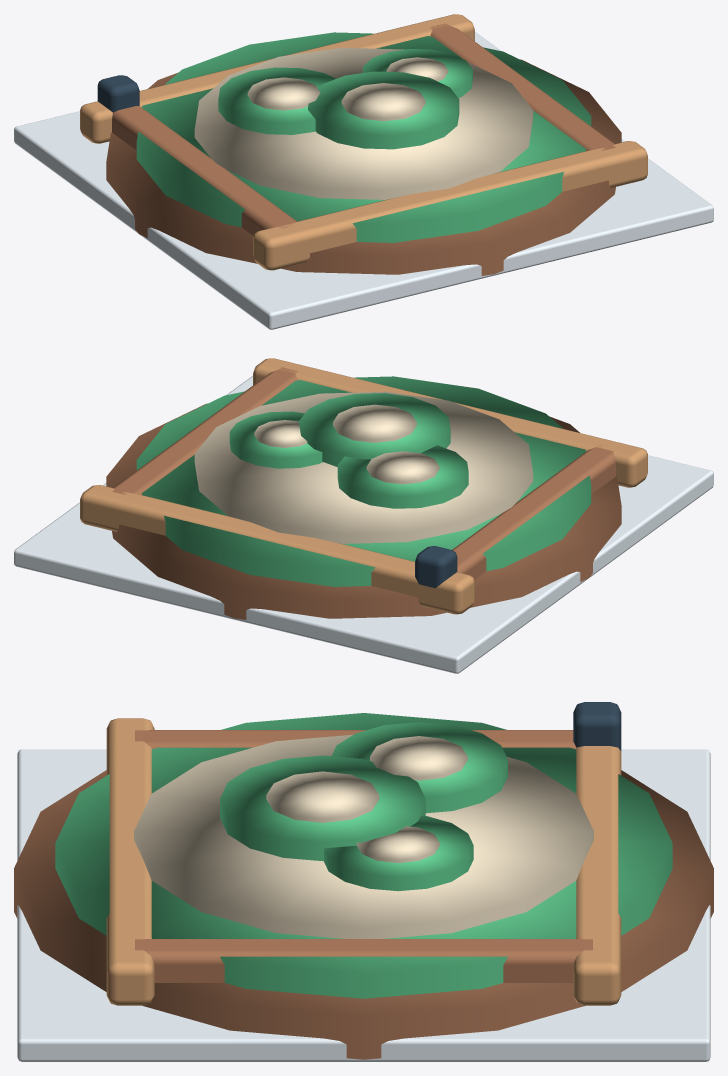
The model's file is pad_payment.glb.
3 views of the same model, one above another, from view 1: azimuth 30°, elevation 25°; view 2: azimuth 150°, elevation 25°; view 3: azimuth 270°, elevation 25° (orthographic). The views are drawn at different scales.
Visible parts, largest first — view 1: pad_payment; view 2: pad_payment; view 3: pad_payment.
Boxes of the visible parts, bbox=[...] form: pad_payment: bbox=[14, 14, 713, 329]; pad_payment: bbox=[14, 358, 713, 673]; pad_payment: bbox=[14, 702, 713, 1061].
Bounding box in the file's own units: 2.04 × 0.4015 × 2.04.
